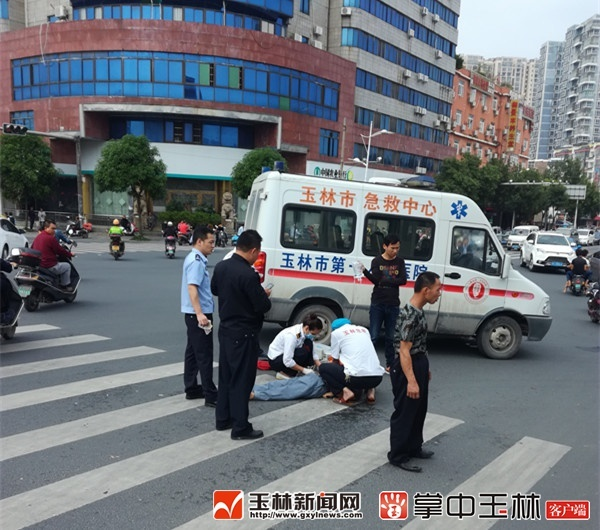falling: (237, 355, 353, 405)
